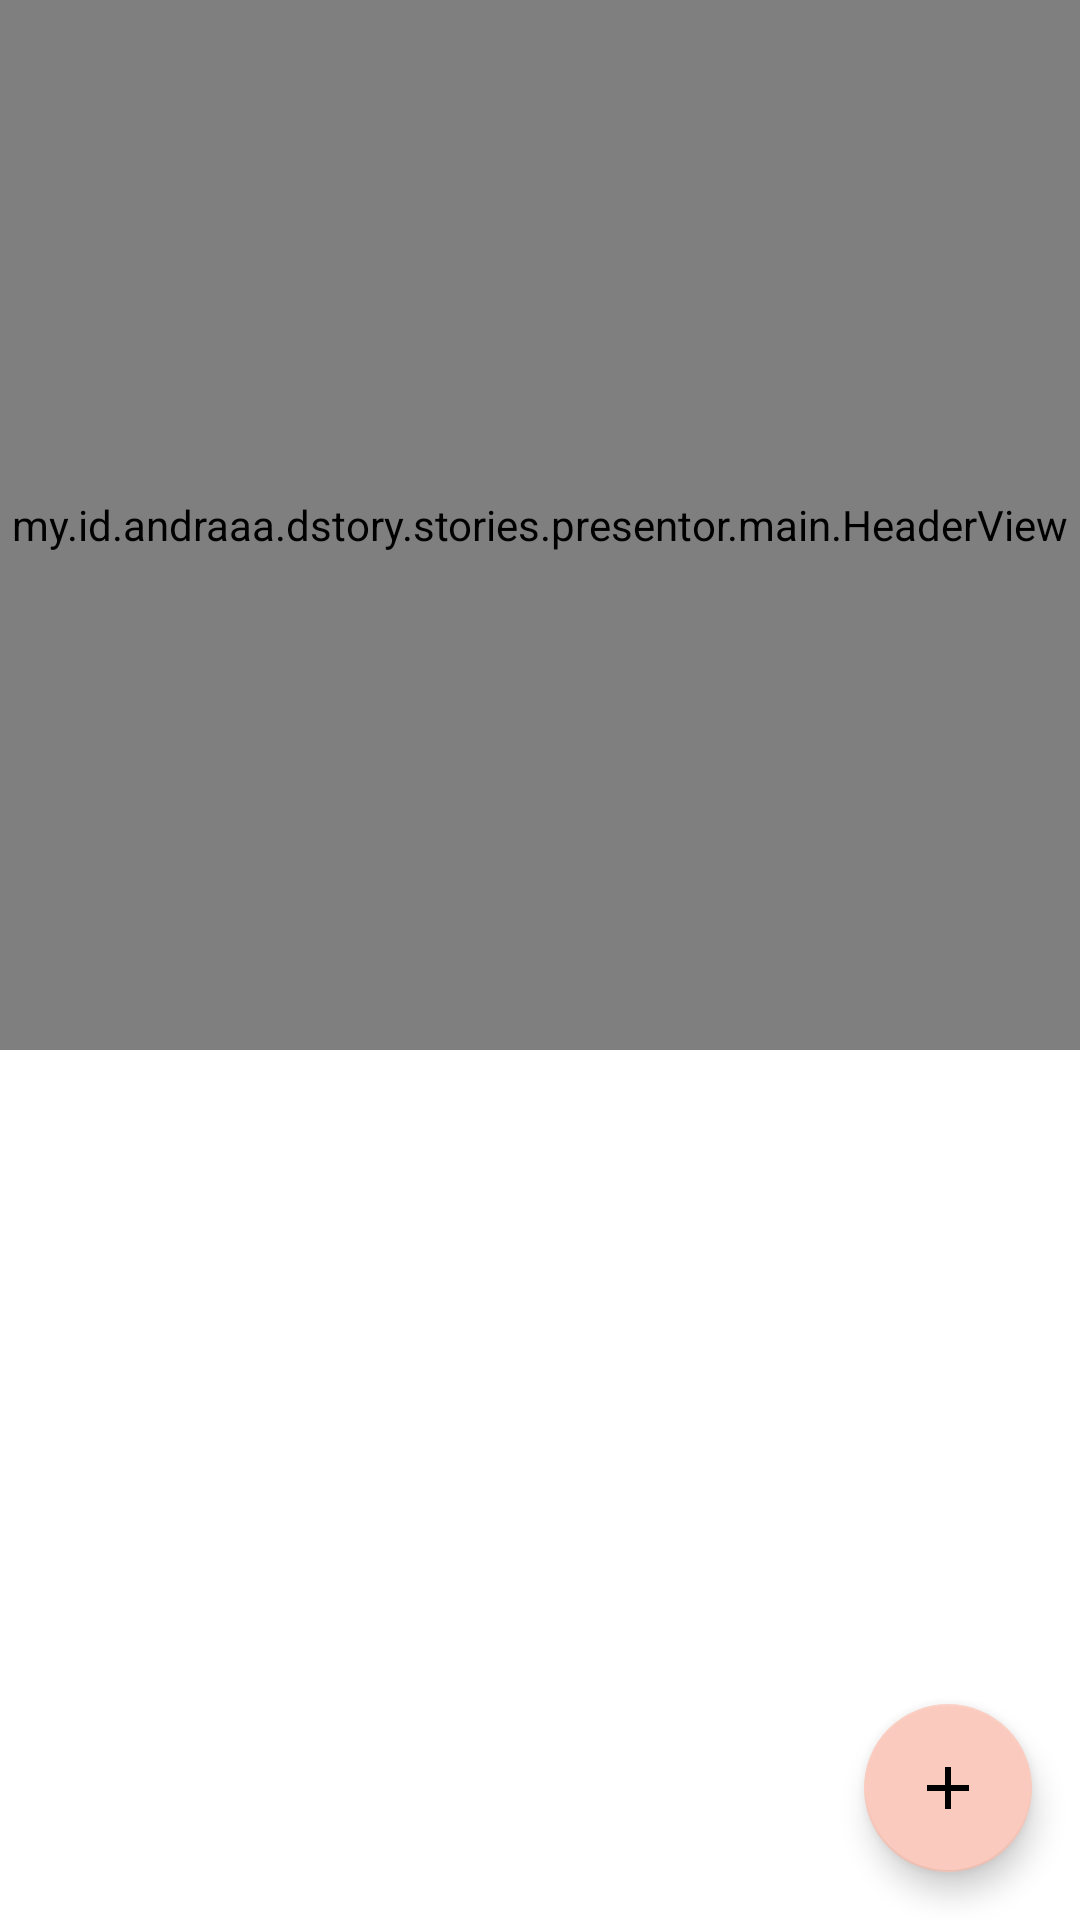

Where to tap for icons on this 1080px×1920px app screen, as (x=x, y=y):
Add new story: (x=948, y=1788)
